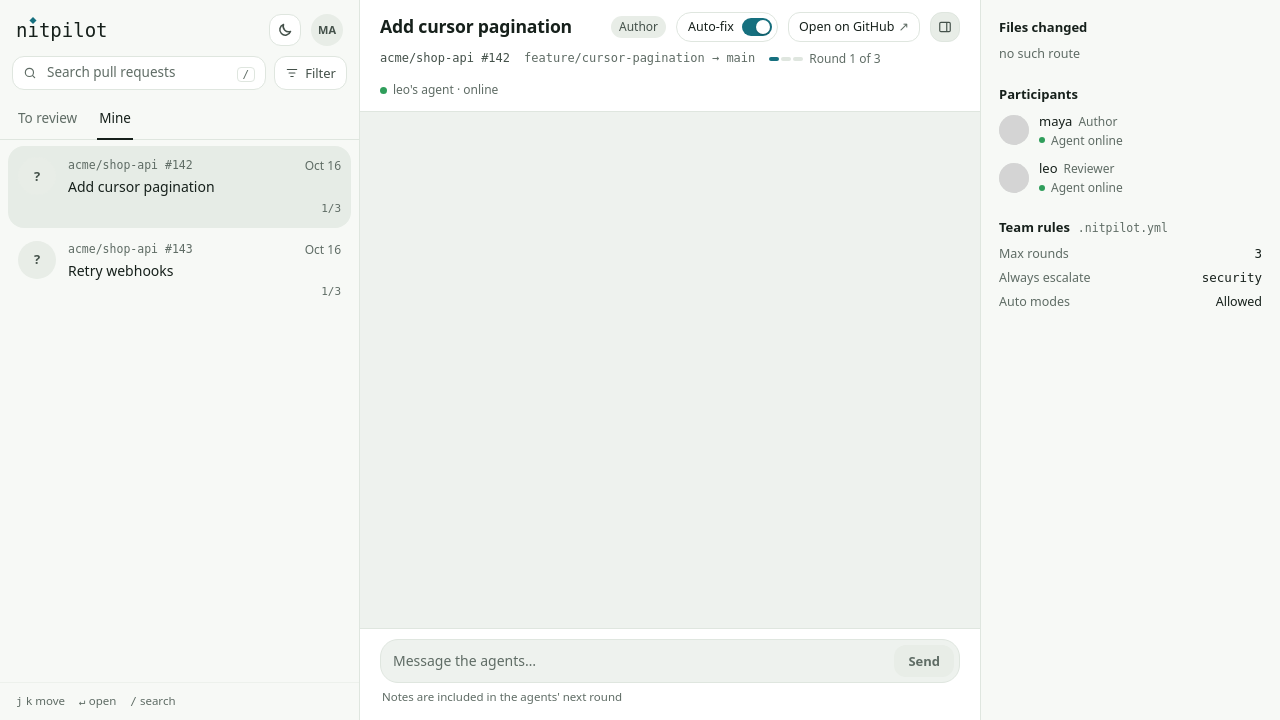
Composer (handoff §2 "Composer") › sends once while the first send is on its way, however often you press
In the text box labelled "Message the agents": (640, 661) [393,645,886,677], type "Once"
Then press Enter
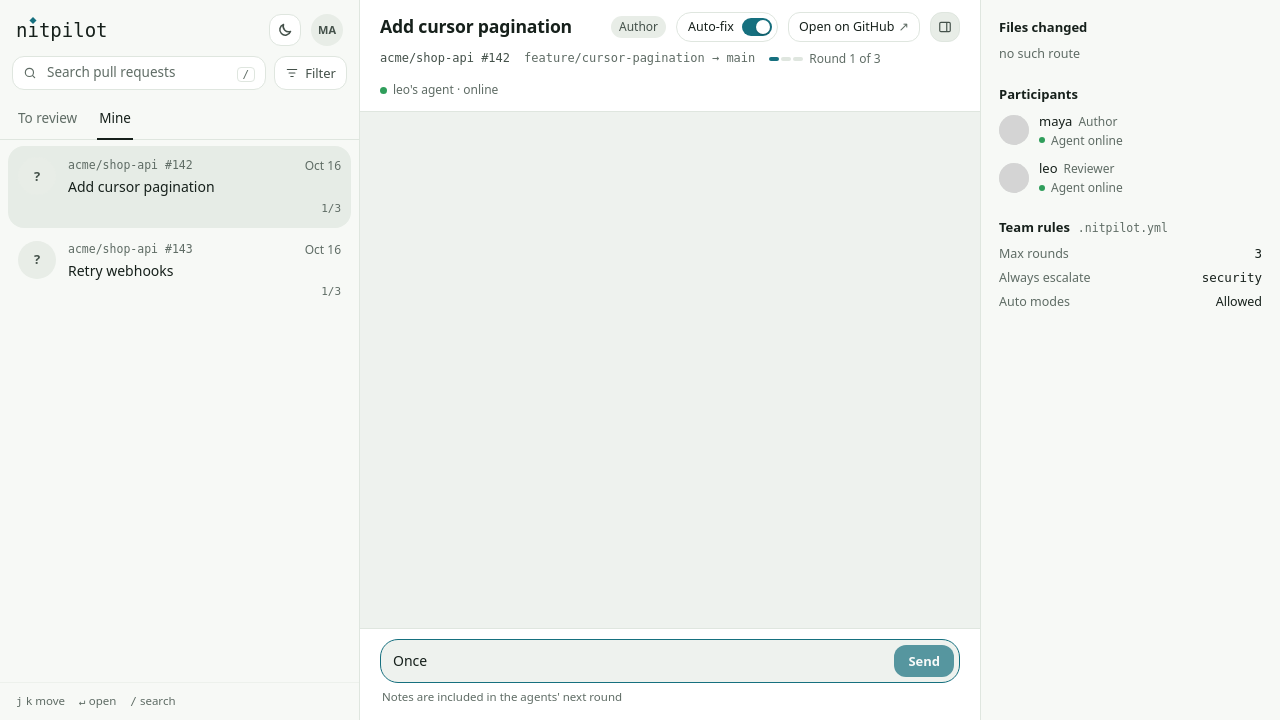
Press Enter
Click the button "Send": (924, 661) [894,645,954,677]
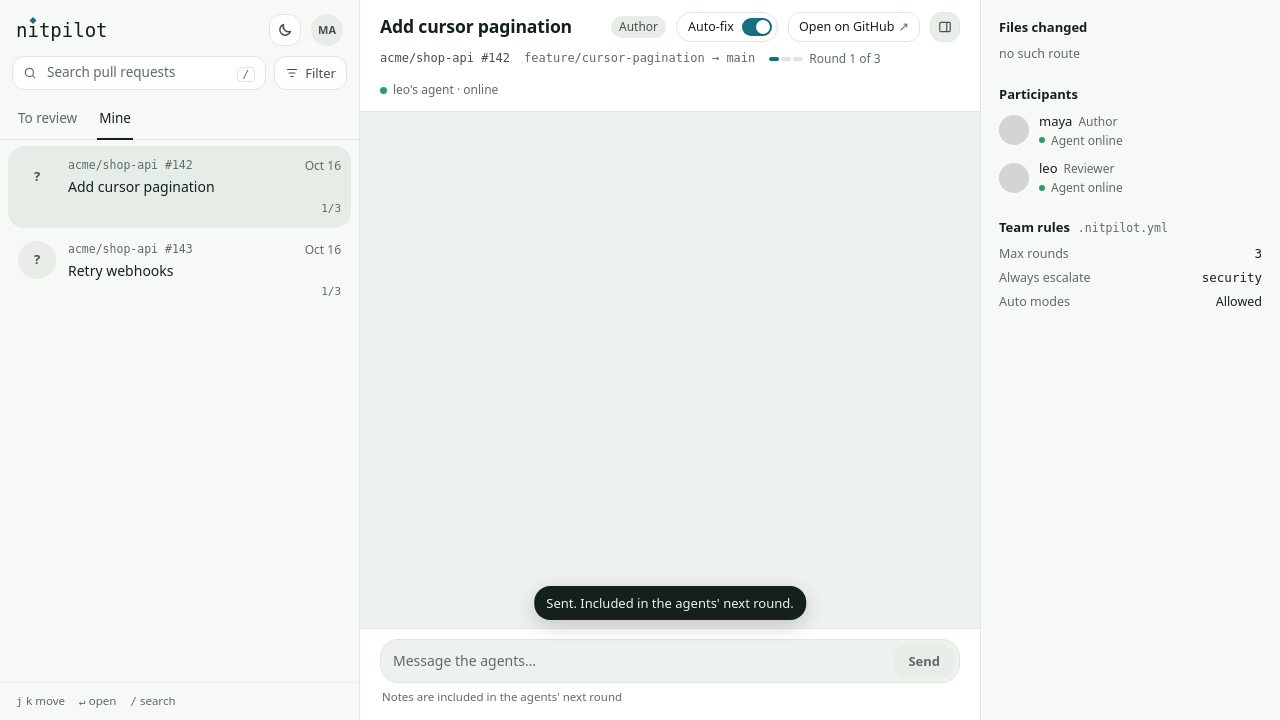
Now the text "Sent. Included in the agents' next round." is shown, box [534,586,806,620]
